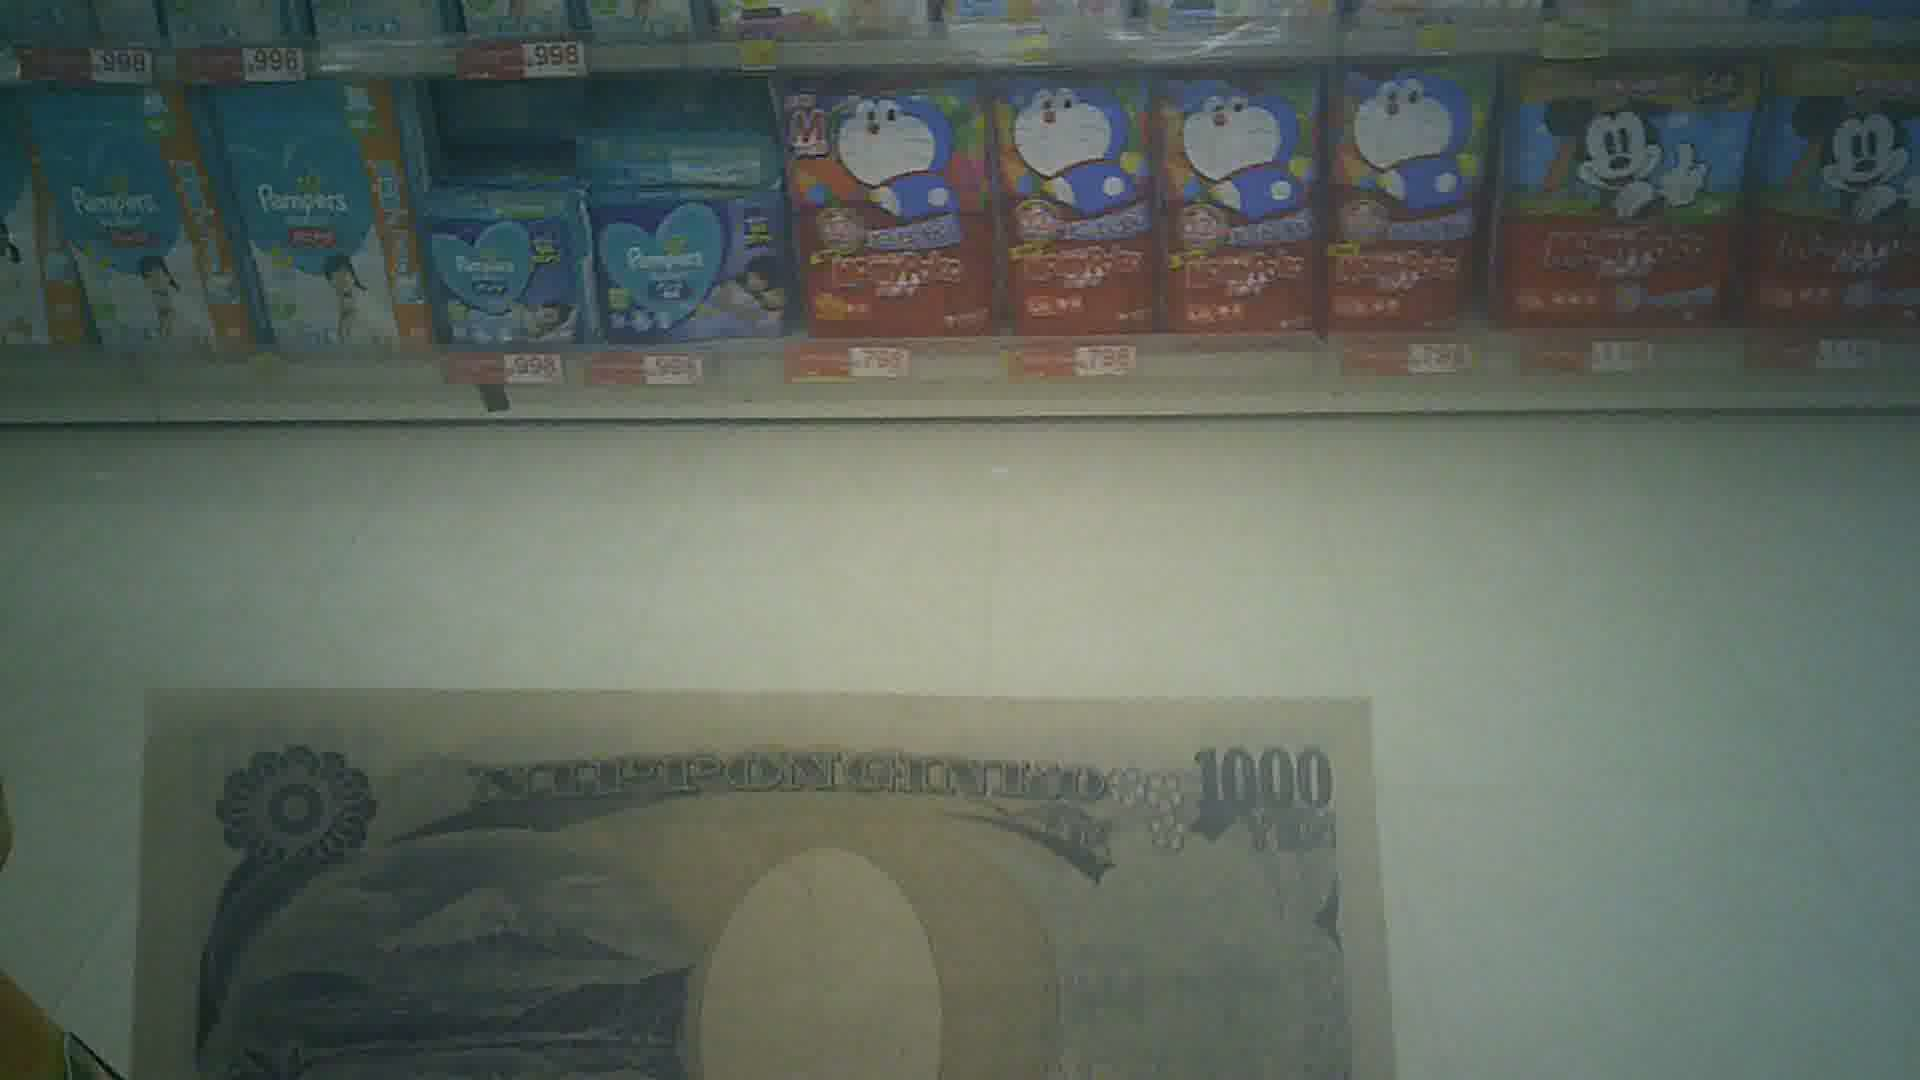1,000 Yen: (131, 674, 1411, 1069)
